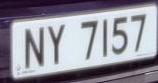1: (99, 13, 112, 64)
5: (109, 14, 132, 57)
7: (78, 16, 101, 65), (128, 12, 148, 54)
N: (23, 21, 48, 76)
Y: (45, 20, 70, 70)
